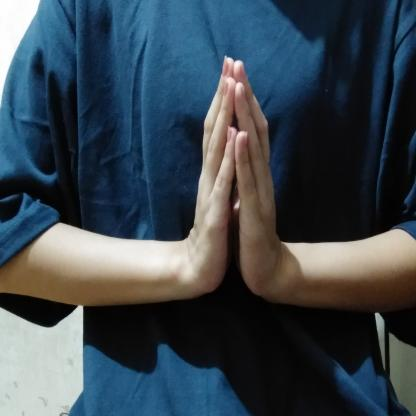sorry: (166, 52, 318, 312)
